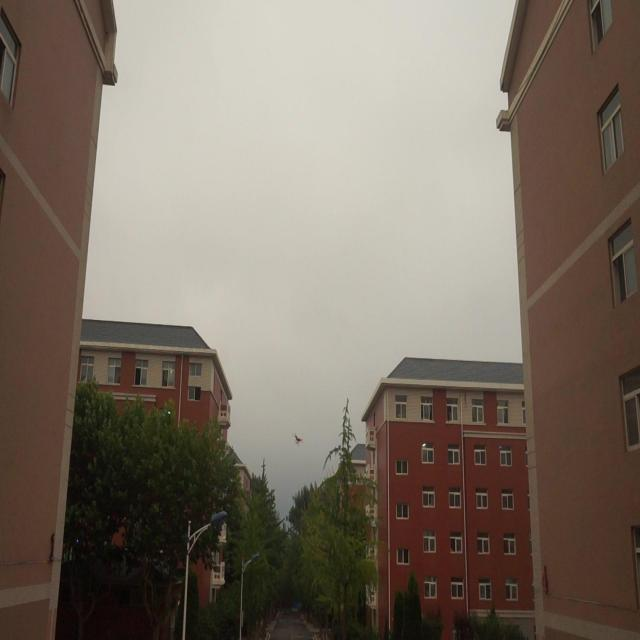UAV: (294, 433, 304, 446)
